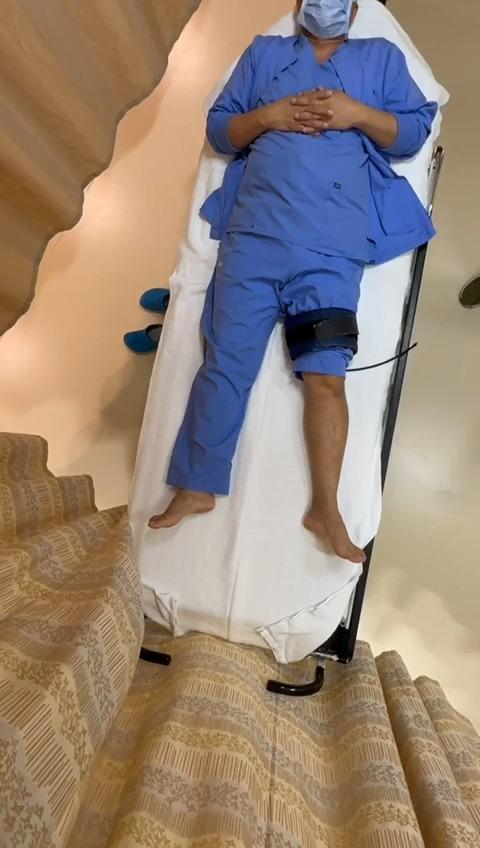patient: (151, 5, 436, 562)
tourniquet: (284, 309, 357, 364)
